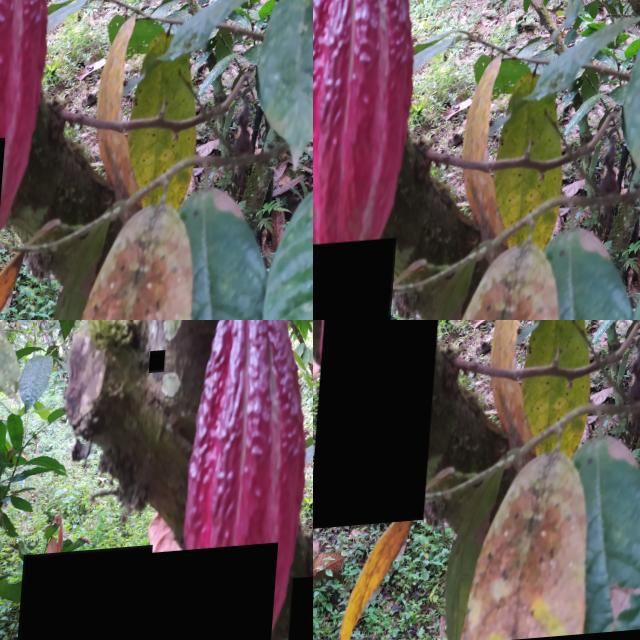Monilia: (11, 548, 158, 640)
Sana: (317, 320, 455, 533), (137, 548, 283, 640), (313, 243, 403, 320), (251, 417, 275, 446), (151, 353, 168, 376)
